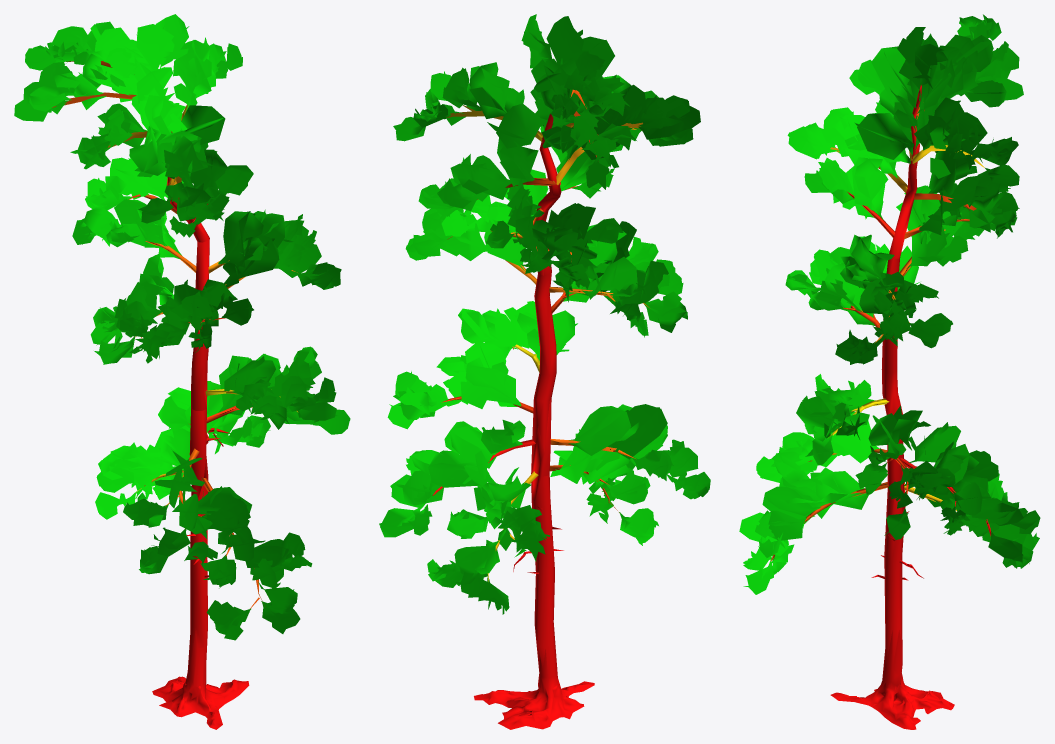
Rendered from Tree L.FBX.
The picture shows the model from 3 angles, left to right: view 1: azimuth 30°, elevation 25°; view 2: azimuth 150°, elevation 25°; view 3: azimuth 270°, elevation 25°; orthographic projection. The views are drawn at different scales.
Visible parts, largest first — view 1: L_LOD1; view 2: L_LOD1; view 3: L_LOD1.
Part boxes in pixels (x1,y1,x2,y2): L_LOD1: (14,14,350,729); L_LOD1: (379,14,710,729); L_LOD1: (739,14,1040,729).
Bounding box in the file's own units: 679 × 1563 × 646.
